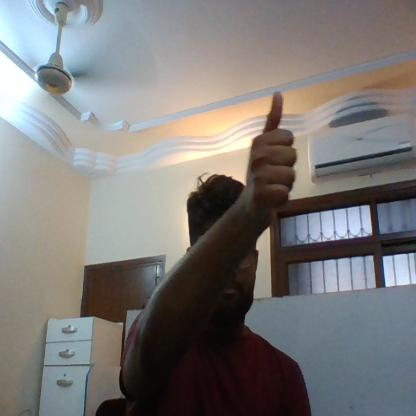thumbs-up: (244, 91, 314, 214)
